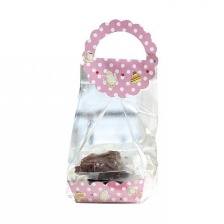snack: (59, 12, 170, 209)
